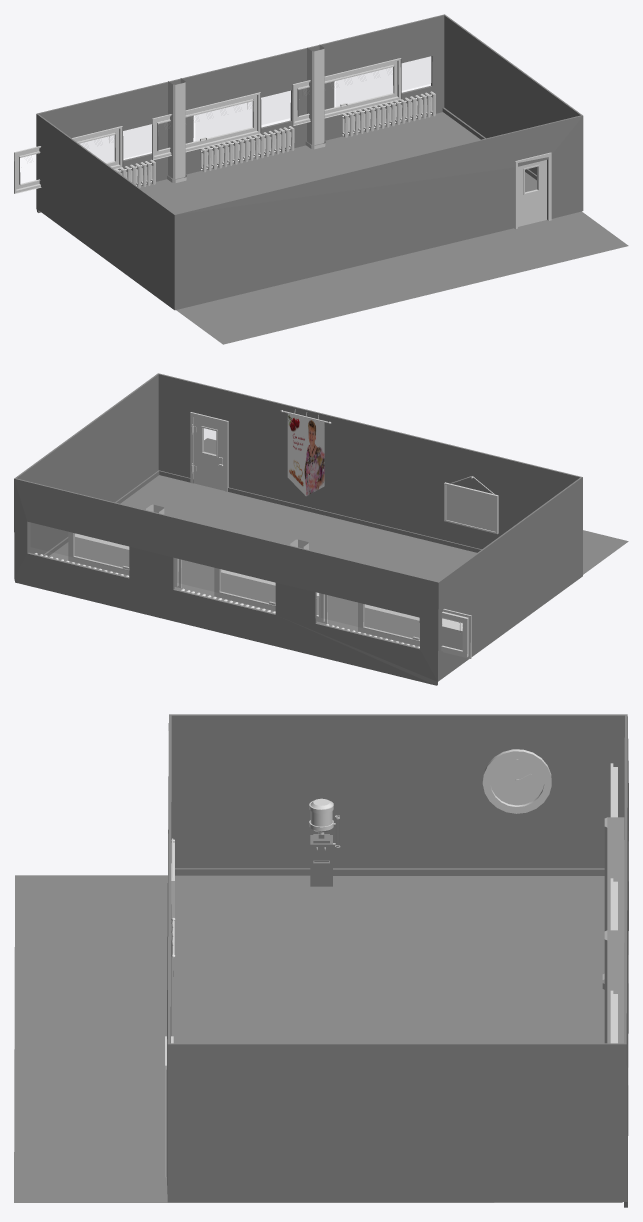
Rendered from kamer hoog.FBX.
3 views of the same model, one above another, from view 1: azimuth 30°, elevation 25°; view 2: azimuth 150°, elevation 25°; view 3: azimuth 270°, elevation 25° (orthographic). The views are drawn at different scales.
Parts seen in each view (by area): view 1: Object047, Plane010, Cylinder032, Cylinder031, Box064, Box072, Box067, Box025, Box073, Box034, Cylinder033, Rectangle005; view 2: Object047, Plane010, Plane014, Box068, Object063, Box073, Box034, Box064, Box072, Rectangle005; view 3: Object047, Plane010, Cylinder019, Object063, Box067, Box025, Box036, Cylinder020.
Boxes of the visible parts, x1,y1,x2,y2 form: Object047: (36,14,583,310); Plane010: (140,112,628,344); Cylinder032: (200,126,294,172); Cylinder031: (341,91,435,137); Box064: (152,92,261,160); Box072: (292,58,401,125); Box067: (167,78,186,183); Box025: (305,44,325,149); Box073: (14,126,123,193); Box034: (518,160,546,226); Cylinder033: (115,159,155,187); Rectangle005: (514,152,551,228); Object047: (14,373,582,685); Plane010: (48,438,628,647); Plane014: (287,413,324,496); Box068: (444,482,498,534); Object063: (43,470,481,556); Box073: (358,602,471,658); Box034: (193,417,224,490); Box064: (214,567,327,623); Box072: (68,531,181,588); Rectangle005: (190,412,228,491); Object047: (166,714,628,1207); Plane010: (14,875,622,1202); Cylinder019: (482,749,551,813); Object063: (171,868,604,1036); Box067: (602,817,624,989); Box025: (604,930,624,1043); Box036: (310,832,332,886); Cylinder020: (309,798,335,844).
Size of the model in its own units: 1630 by 361 by 1205.
